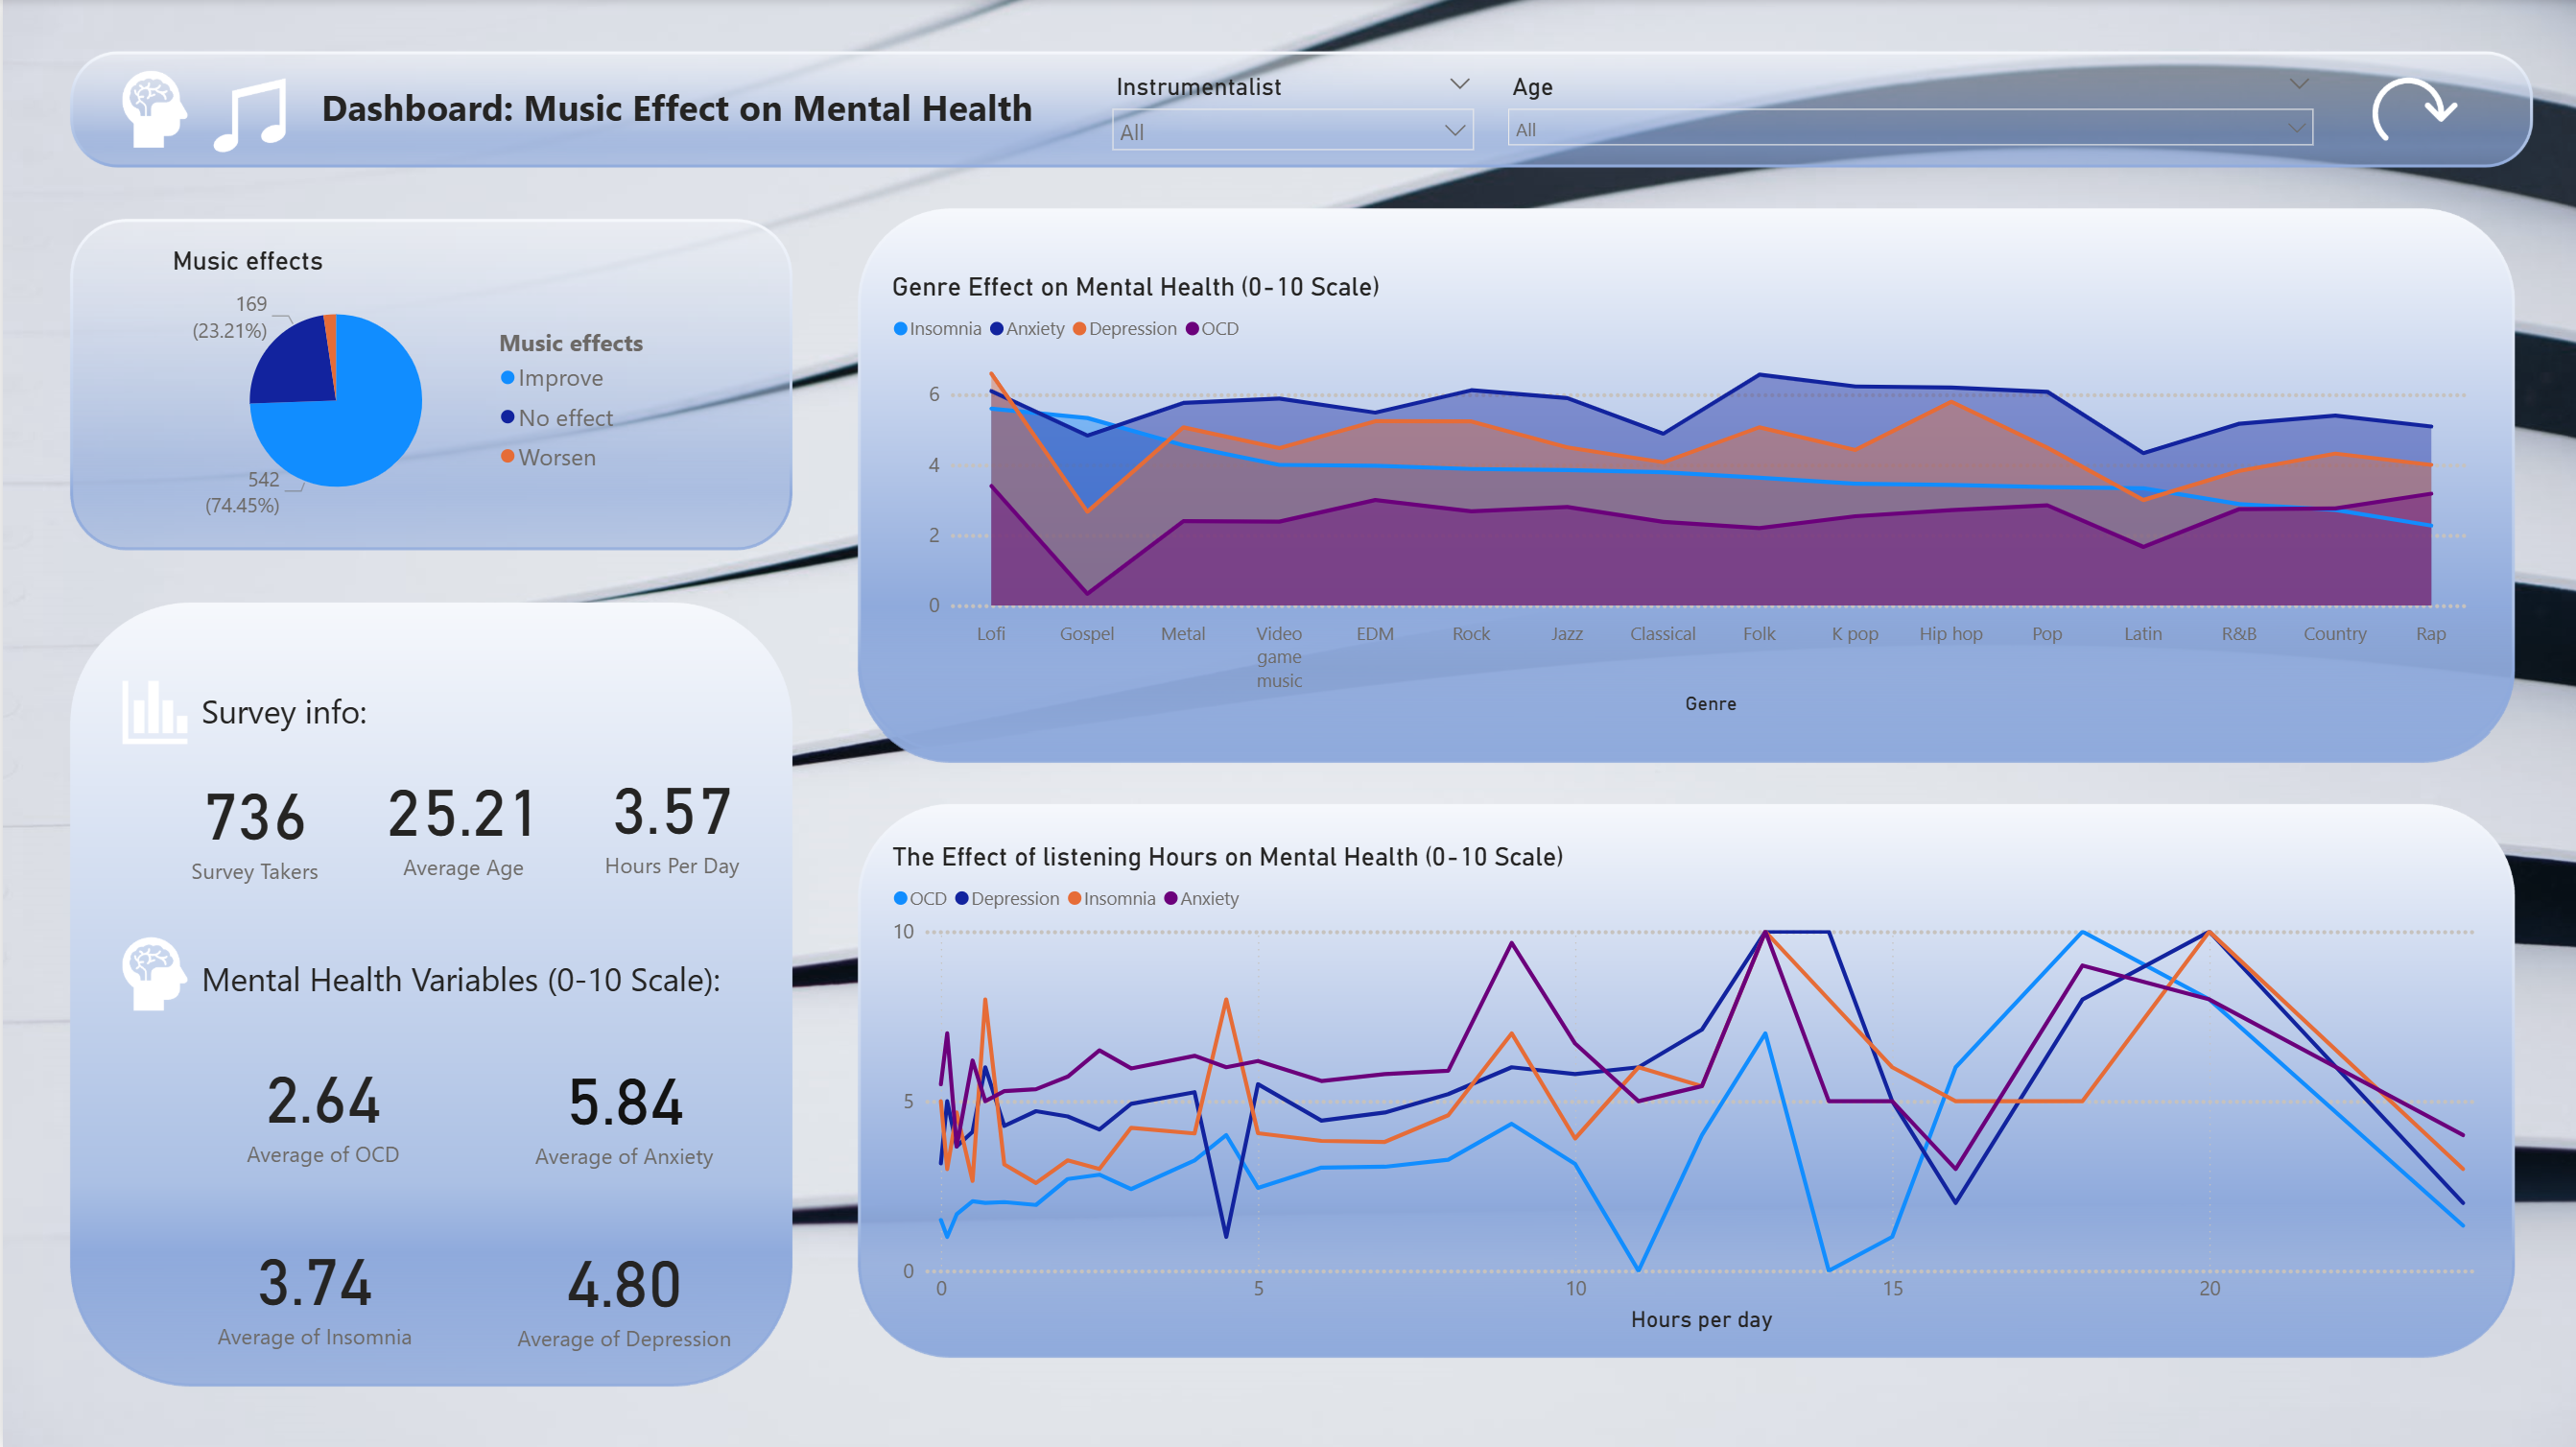

The dashboard page shown, as its layout file describes it:
{"tool":"powerbi","page":{"name":"Page 1","canvas":[1920,1080],"ordinal":0},"visuals":[{"type":"card","fields":{"Values":["CountNonNull(mxmh_survey_results.Timestamp)"]},"box":[121.4,555.7,132.1,116.1],"z":0},{"type":"card","fields":{"Values":["Avg(mxmh_survey_results.Age)"]},"box":[264.3,550.4,157.1,121.4],"z":1000},{"type":"card","fields":{"Values":["Avg(mxmh_survey_results.Hours per day)"]},"box":[437.5,546.8,121.4,125],"z":2000},{"type":"areaChart","title":"Genre Effect on Mental Health (0-10 Scale)","fields":{"Category":["mxmh_survey_results.Fav genre"],"Y":["Avg(mxmh_survey_results.Insomnia)","Avg(mxmh_survey_results.Anxiety)","Avg(mxmh_survey_results.Depression)","Avg(mxmh_survey_results.OCD)"]},"box":[657.1,203.6,1189.3,333.9],"z":3000},{"type":"slicer","fields":{"Values":["mxmh_survey_results.Age"]},"box":[1110.7,50,619.6,66.1],"z":4000},{"type":"slicer","fields":{"Values":["mxmh_survey_results.Instrumentalist"]},"box":[816.1,50,289.3,66.1],"z":5000},{"type":"textbox","box":[232.1,57.1,596.4,51.8],"z":6000},{"type":"lineChart","title":"The Effect of  listening Hours on Mental Health (0-10 Scale)","fields":{"Category":["mxmh_survey_results.Hours per day"],"Y":["Avg(mxmh_survey_results.OCD)","Avg(mxmh_survey_results.Depression)","Avg(mxmh_survey_results.Insomnia)","Avg(mxmh_survey_results.Anxiety)"]},"box":[657.1,626.8,1189.3,369.6],"z":7000},{"type":"card","fields":{"Values":["Avg(mxmh_survey_results.Depression)"]},"box":[369.6,901.8,185.7,119.6],"z":8000},{"type":"card","fields":{"Values":["Avg(mxmh_survey_results.Insomnia)"]},"box":[132.1,896.4,200,126.8],"z":9000},{"type":"card","fields":{"Values":["Avg(mxmh_survey_results.Anxiety)"]},"box":[376.8,771.4,171.4,108.9],"z":10000},{"type":"card","fields":{"Values":["Avg(mxmh_survey_results.OCD)"]},"box":[148.2,769.6,180.4,108.9],"z":11000},{"type":"textbox","box":[142.9,707.1,441.1,64.3],"z":12000},{"type":"textbox","box":[142.9,508.9,371.4,55.4],"z":13000},{"type":"pieChart","title":"Music effects","fields":{"Category":["mxmh_survey_results.Music effects"],"Y":["CountNonNull(mxmh_survey_results.Music effects)"]},"box":[121.4,183.9,376.8,208.9],"z":14000},{"type":"actionButton","box":[1756.1,57.6,75.6,52.2],"z":15000}]}

Visuals, with their boxes in screenshot pixels (x1, y1, x2, y2), scaled from the page's 1920x1080 canvas onto the 2576x1447 screenshot:
card - CountNonNull(mxmh_survey_results.Timestamp): select_region(163, 745, 341, 900)
card - Avg(mxmh_survey_results.Age): select_region(355, 738, 565, 900)
card - Avg(mxmh_survey_results.Hours per day): select_region(587, 732, 750, 900)
"Genre Effect on Mental Health (0-10 Scale)" areaChart: select_region(882, 273, 2477, 721)
slicer - mxmh_survey_results.Age: select_region(1490, 67, 2322, 155)
slicer - mxmh_survey_results.Instrumentalist: select_region(1095, 67, 1483, 155)
textbox: select_region(312, 77, 1112, 146)
"The Effect of  listening Hours on Mental Health (0-10 Scale)" lineChart: select_region(882, 840, 2477, 1335)
card - Avg(mxmh_survey_results.Depression): select_region(496, 1208, 745, 1368)
card - Avg(mxmh_survey_results.Insomnia): select_region(177, 1201, 445, 1371)
card - Avg(mxmh_survey_results.Anxiety): select_region(506, 1033, 736, 1179)
card - Avg(mxmh_survey_results.OCD): select_region(199, 1032, 441, 1177)
textbox: select_region(192, 947, 784, 1033)
textbox: select_region(192, 682, 690, 756)
"Music effects" pieChart: select_region(163, 247, 669, 526)
actionButton: select_region(2356, 77, 2458, 147)
